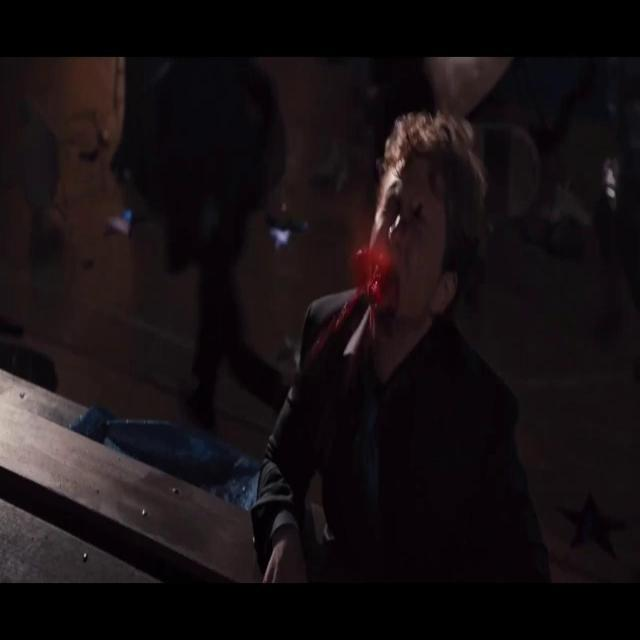flood: (300, 231, 408, 372)
